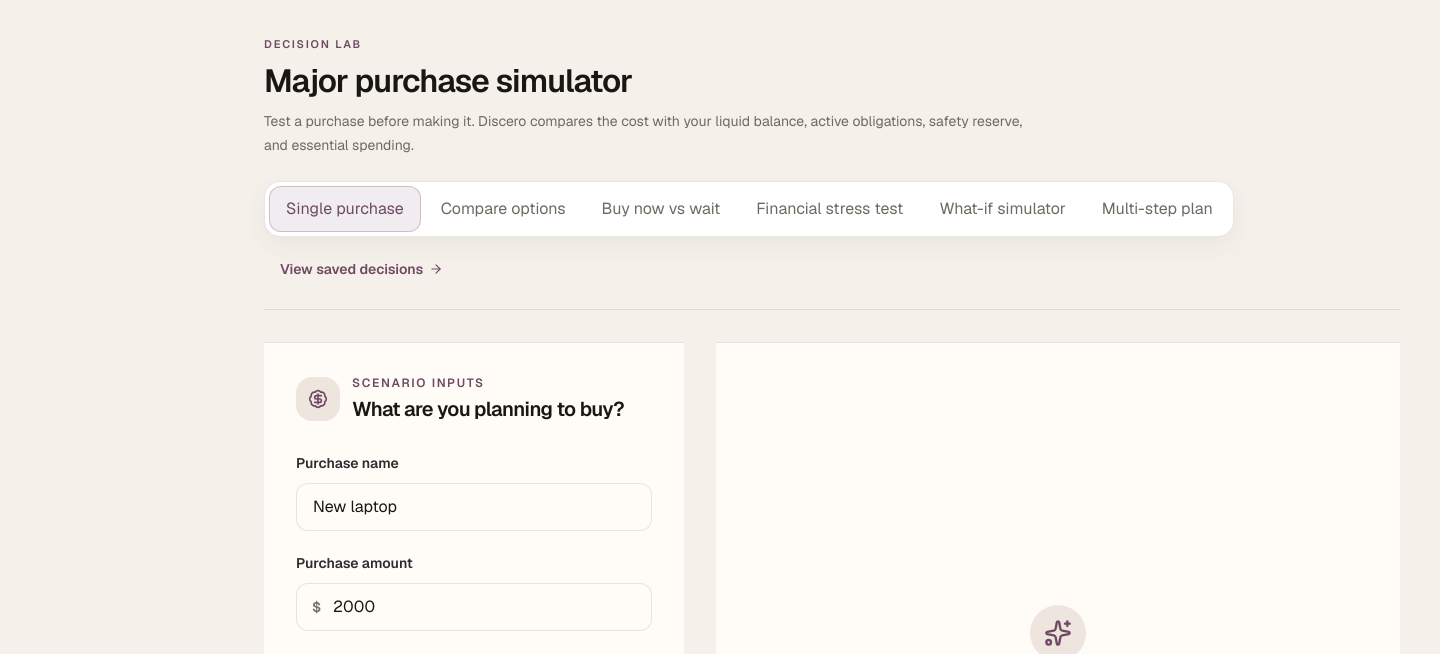
Test: decisions multi-step plan mode › switches into the multi-step planner without disturbing other modes
This screenshot has width=1440, height=654.
Expected: the heading "Major purchase simulator" is shown, [264, 60, 632, 100]
Click the button "Multi-step plan" at (1157, 208), box [1086, 186, 1229, 232]
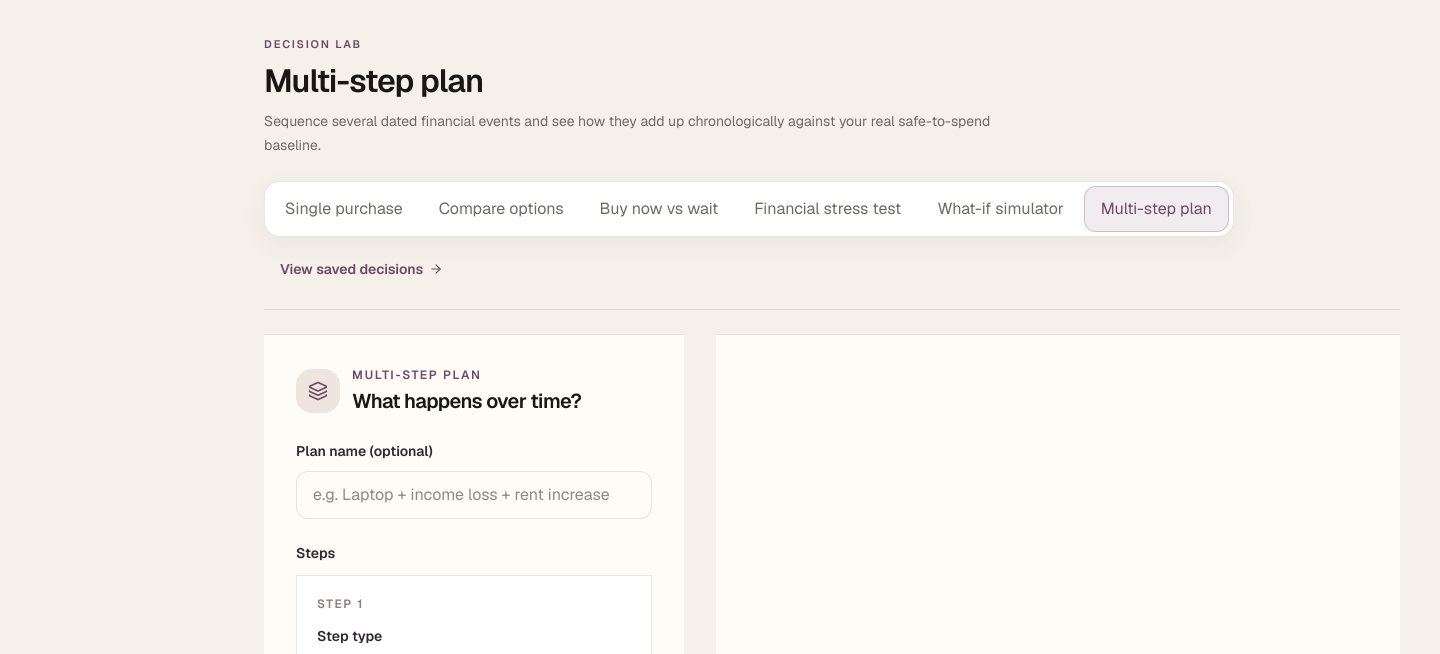
Now the heading "What happens over time?" is shown, box [352, 386, 581, 414]
Now the text "Step 1" is shown 2 times
Click the button "Single purchase" at (344, 208), box [269, 186, 419, 232]
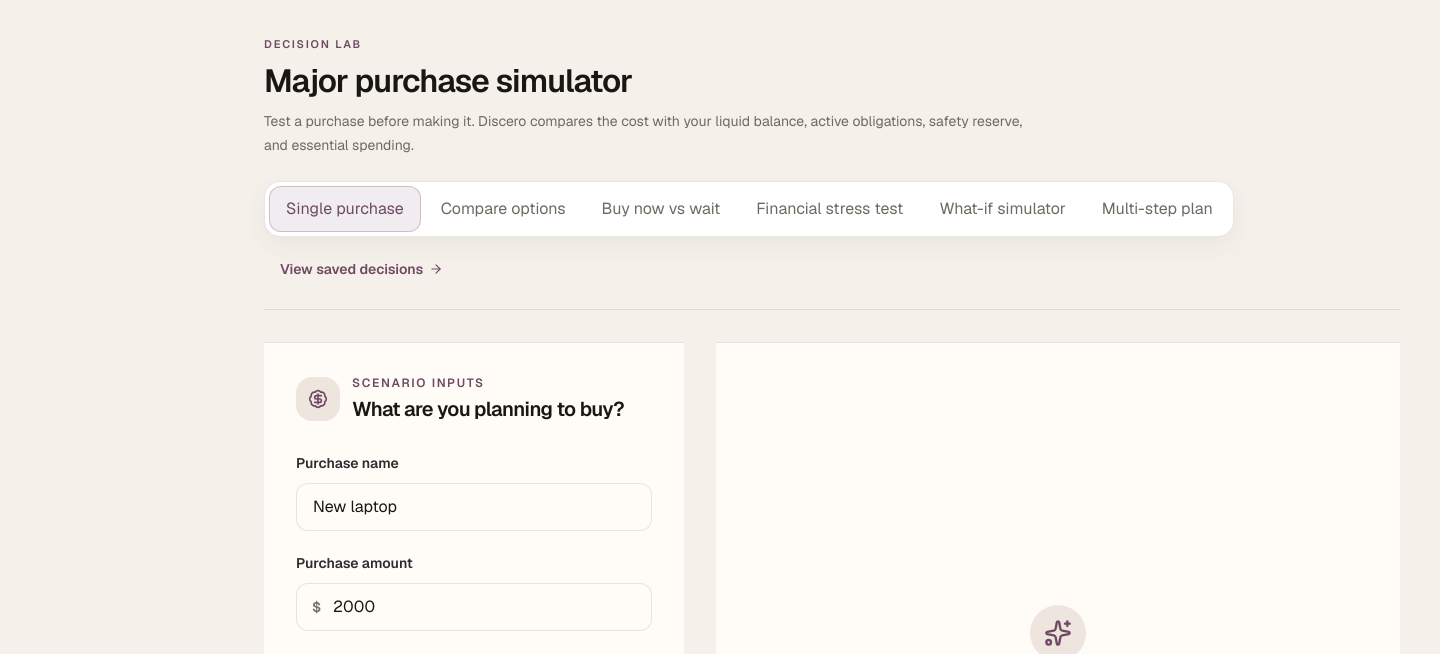
Now the heading "Major purchase simulator" is shown, box [264, 60, 632, 100]
